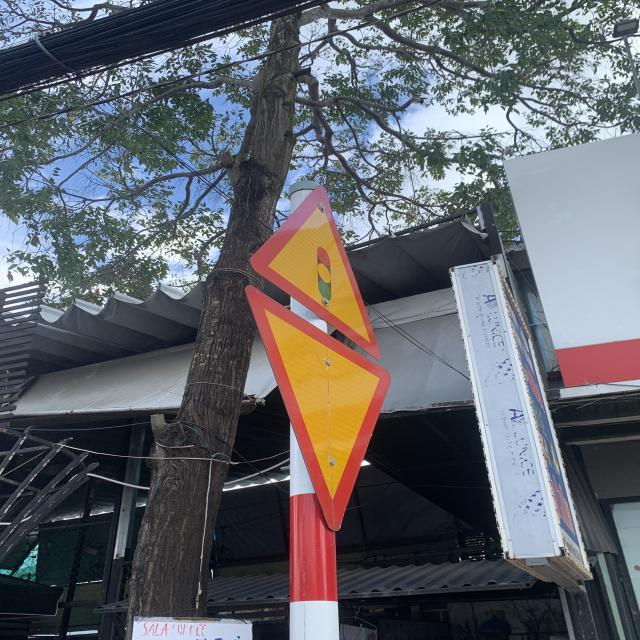Duong_Co_Go_Giam_Toc: (252, 184, 382, 363)
Gioi_Han_Toc_Do_25: (244, 285, 394, 533)
